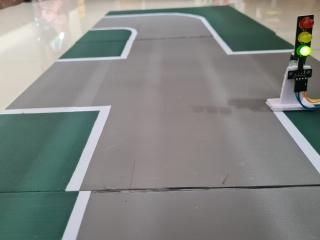green: (288, 6, 314, 69)
